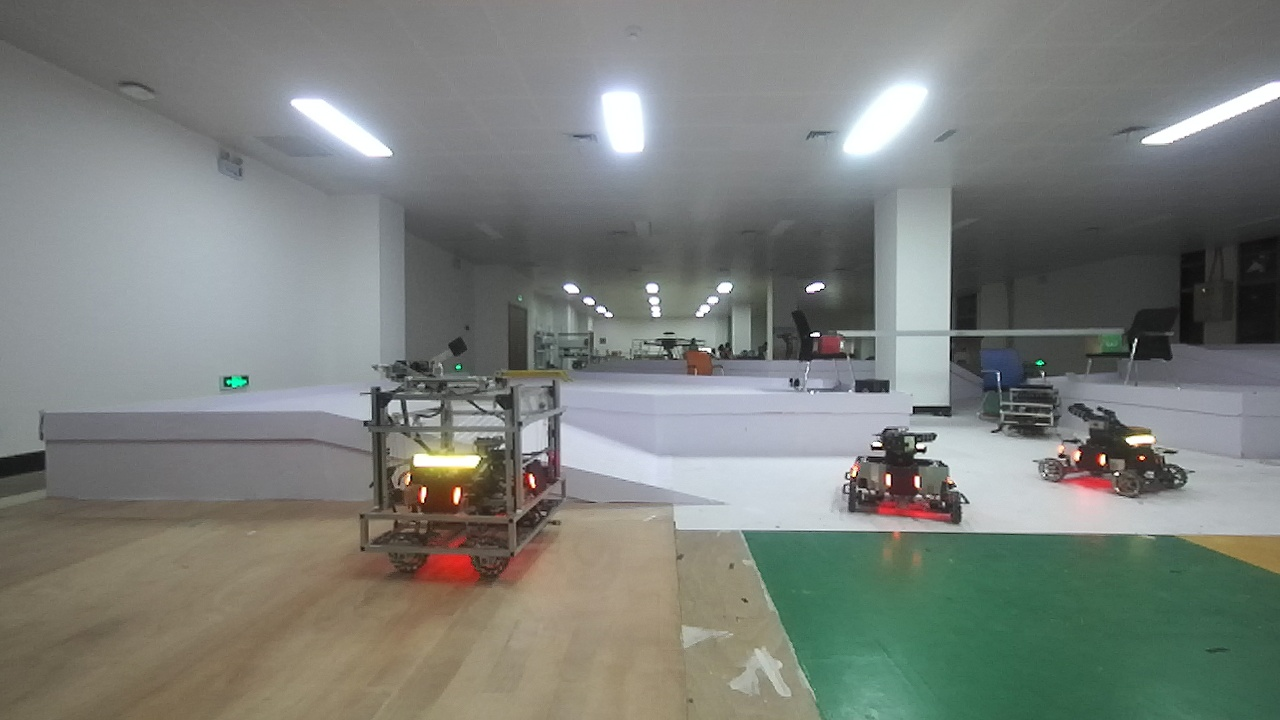car: (349, 371, 580, 586), (1030, 401, 1202, 516), (827, 427, 977, 535)
